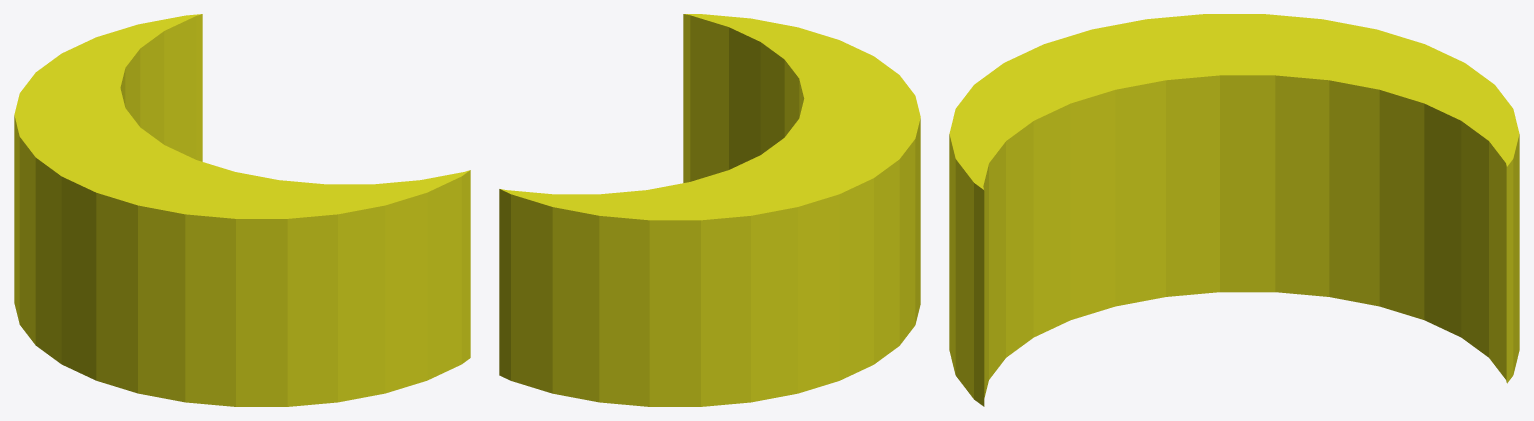
The model's file is moonPrev.fbx.
3 renders of one model, left to right at view 1: azimuth 30°, elevation 25°; view 2: azimuth 150°, elevation 25°; view 3: azimuth 270°, elevation 25°, orthographic. The views are drawn at different scales.
Parts seen in each view (by area): view 1: moon.004; view 2: moon.004; view 3: moon.004.
Part boxes in pixels (x1,y1,x2,y2): moon.004: (14,14,470,406); moon.004: (499,14,920,406); moon.004: (949,14,1519,406).
Bounding box in the file's own units: 105 × 60 × 143.
